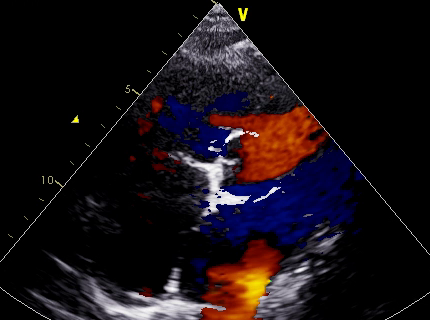PR: (251, 147, 320, 238)
